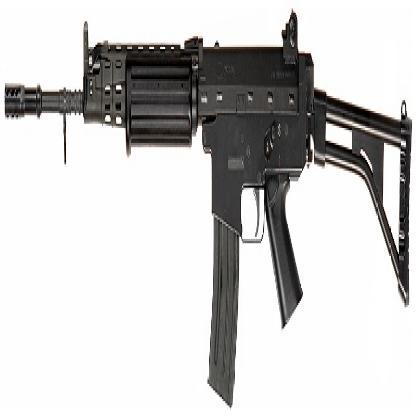gun: (1, 6, 416, 403)
